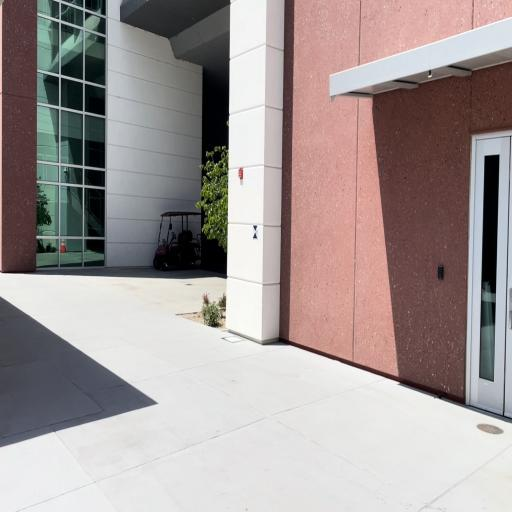target9: (253, 225, 258, 240)
